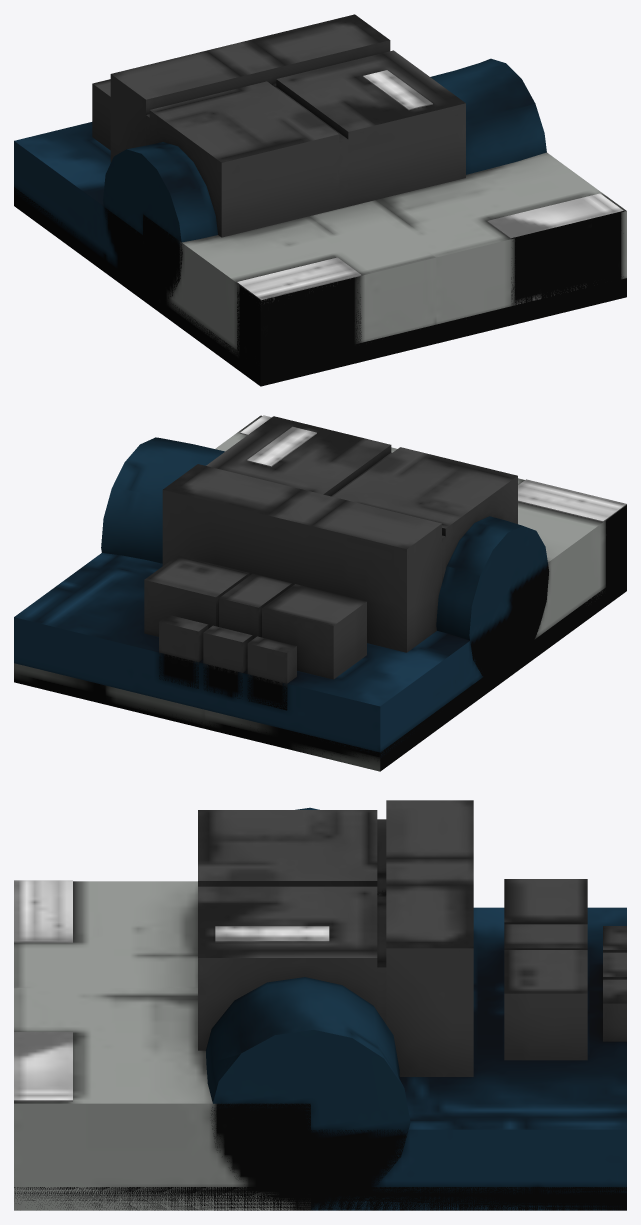
Rendered from newshb-119.glb.
3 renders of one model, top to bottom at view 1: azimuth 30°, elevation 25°; view 2: azimuth 150°, elevation 25°; view 3: azimuth 270°, elevation 25°, orthographic. The views are drawn at different scales.
Visible parts, largest first — view 1: newshb-119; view 2: newshb-119; view 3: newshb-119.
Part boxes in pixels (box(x1,y1,x2,y2)): newshb-119: box(14, 14, 626, 386); newshb-119: box(14, 415, 626, 771); newshb-119: box(14, 800, 626, 1210).
Size of the model in its own units: 2 by 0.88 by 2.33.
Materials: 7 (7 with a texture image).
